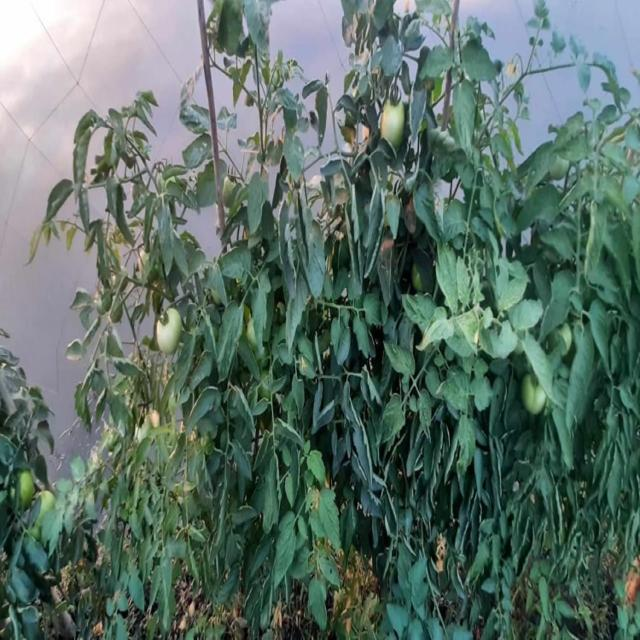tomato: (151, 303, 193, 358), (377, 88, 415, 143), (517, 374, 551, 425), (552, 319, 577, 359), (28, 487, 59, 519), (224, 172, 251, 207), (15, 473, 34, 506), (99, 290, 120, 318), (135, 245, 157, 266)
